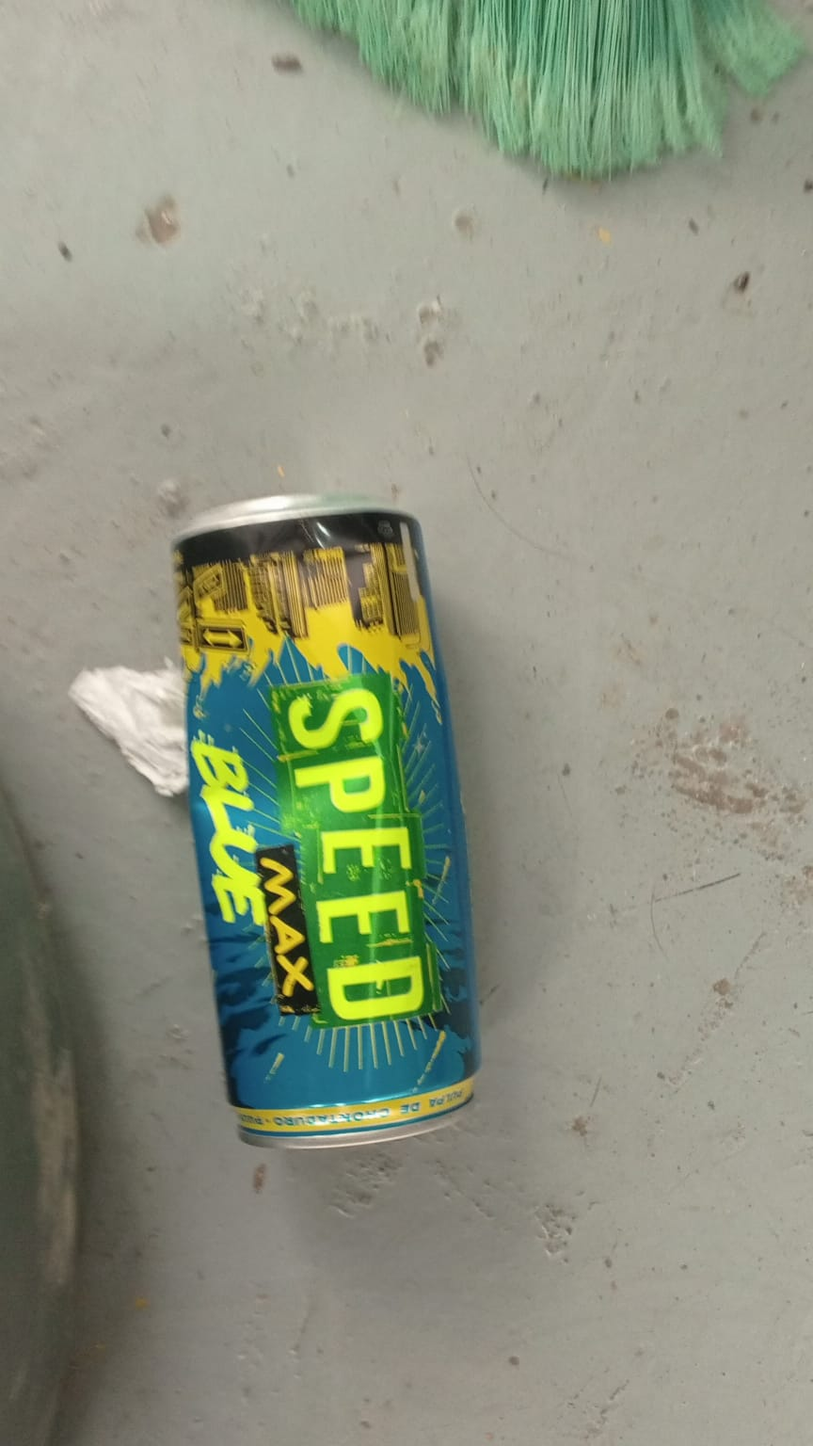Metal: (173, 488, 482, 1148)
